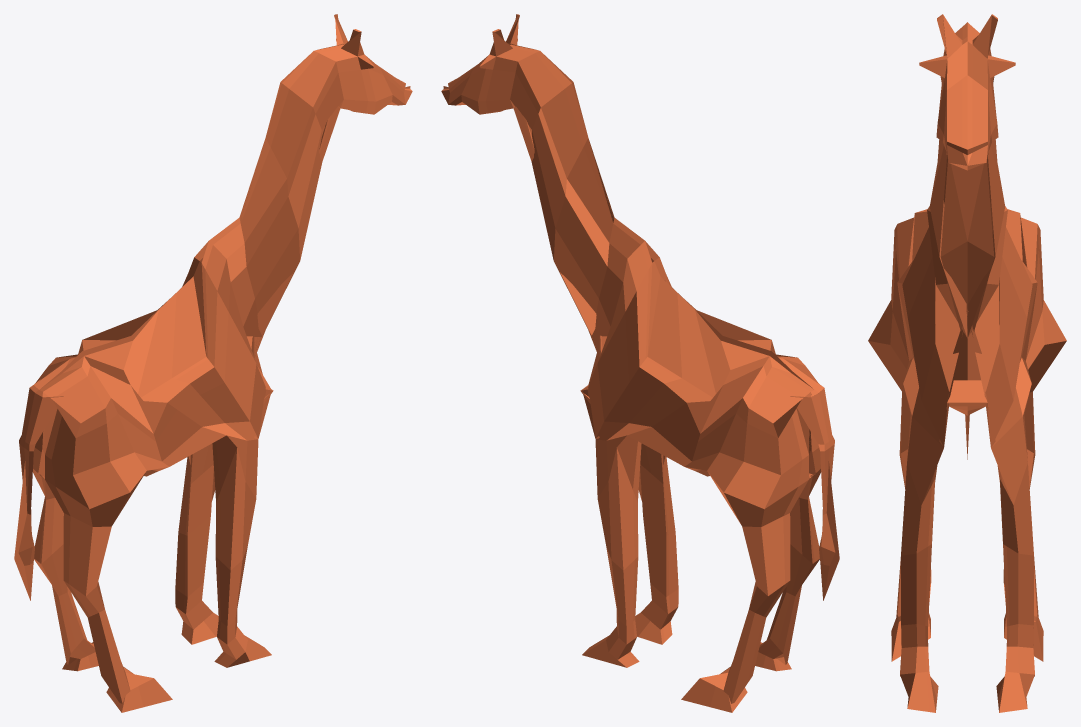
Rendered from giraffe.fbx.
3 renders of one model, left to right at view 1: azimuth 30°, elevation 25°; view 2: azimuth 150°, elevation 25°; view 3: azimuth 270°, elevation 25°, orthographic. The views are drawn at different scales.
Visible parts, largest first — view 1: Plane; view 2: Plane; view 3: Plane.
Boxes of the visible parts, box(x1,y1,x2,y2) form: Plane: box(14, 14, 412, 712); Plane: box(441, 14, 839, 712); Plane: box(868, 14, 1066, 712).
Bounding box in the file's own units: 457 × 665 × 155.
